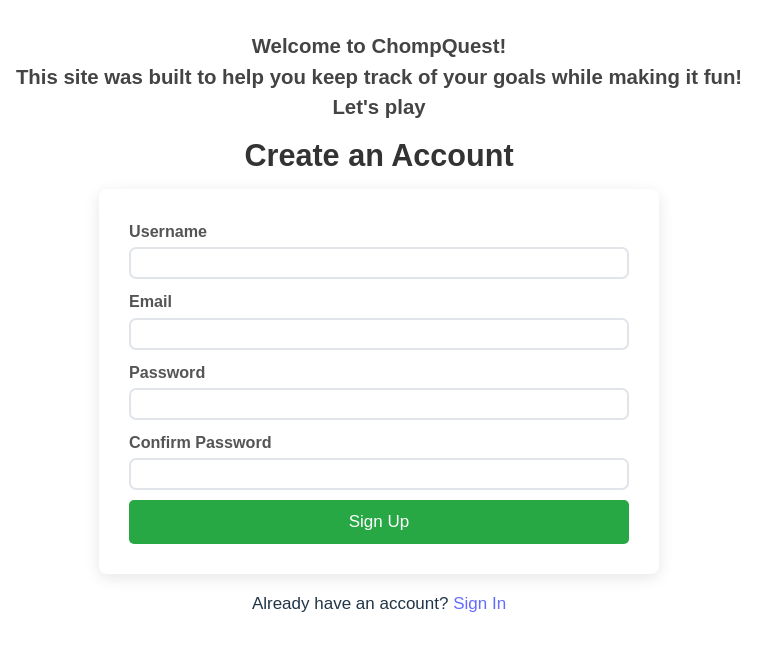
it: SignUp Component › shows error when password is less than 6 characters
Type "testuser" into the field labelled "Username" at (379, 263), box [129,247,629,279]
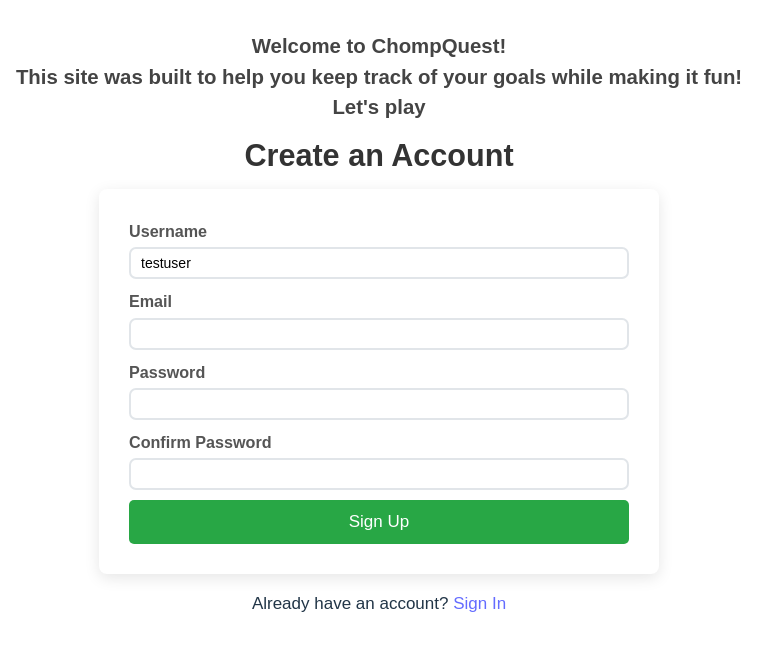
Type "test@example.com" into the field labelled "Email" at (379, 334), box [129,318,629,350]
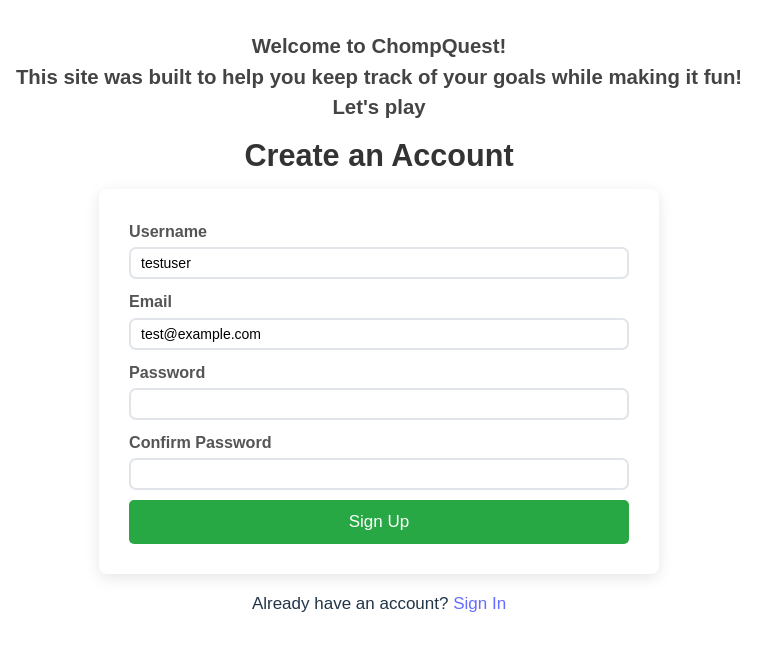
Type "123" into the password field labelled "Password" at (379, 404), box [129,388,629,420]
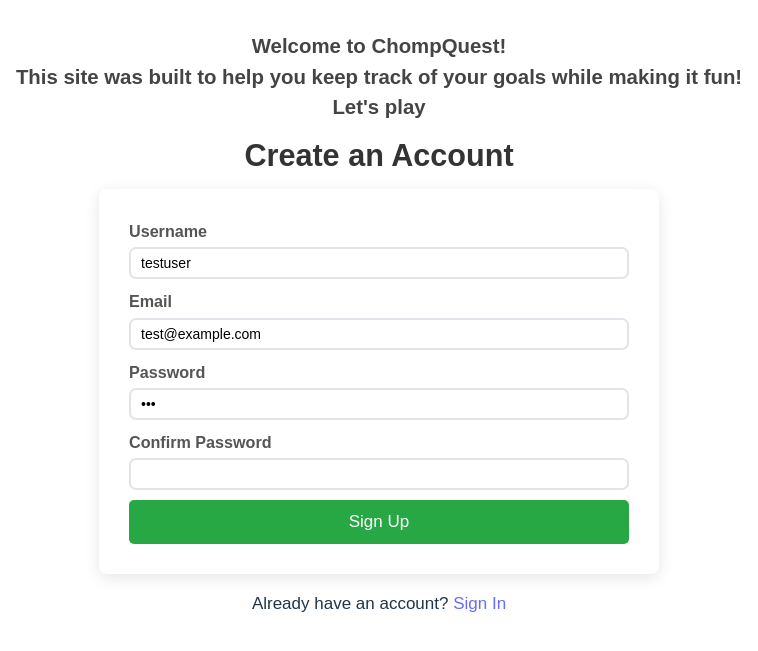
Type "123" into the password field labelled "Confirm Password" at (379, 474), box [129,458,629,490]
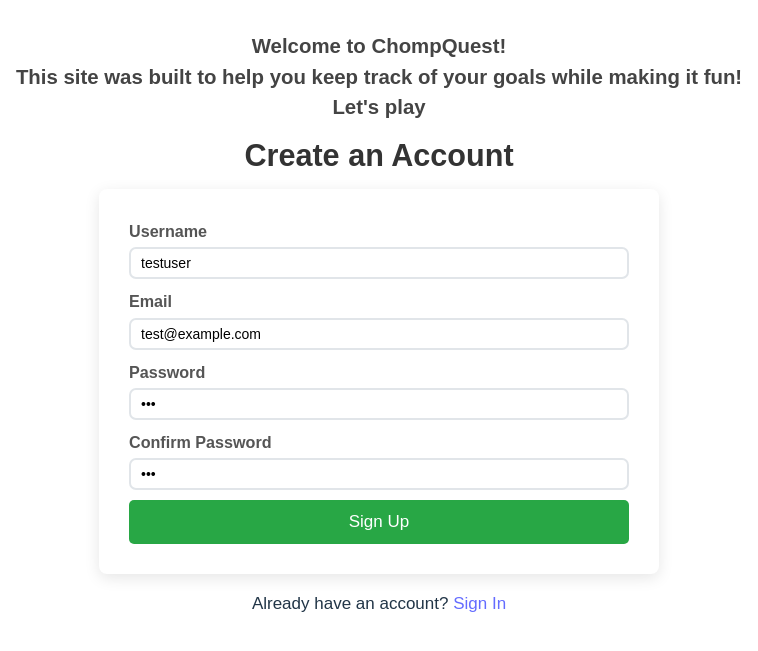
Click the button "Sign Up" at (379, 522), box [129,500,629,544]
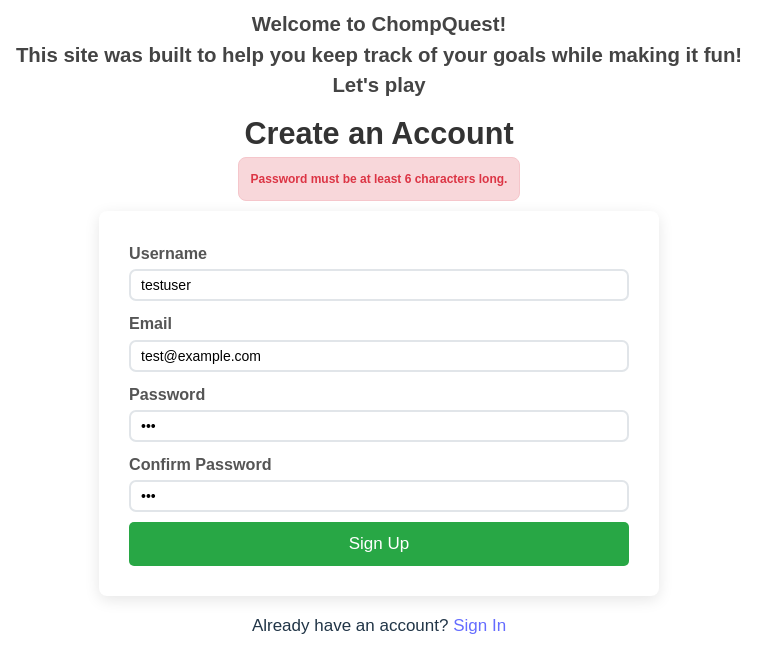
Expected: the text "Password must be at least 6 characters long." is shown, [238,157,520,201]
